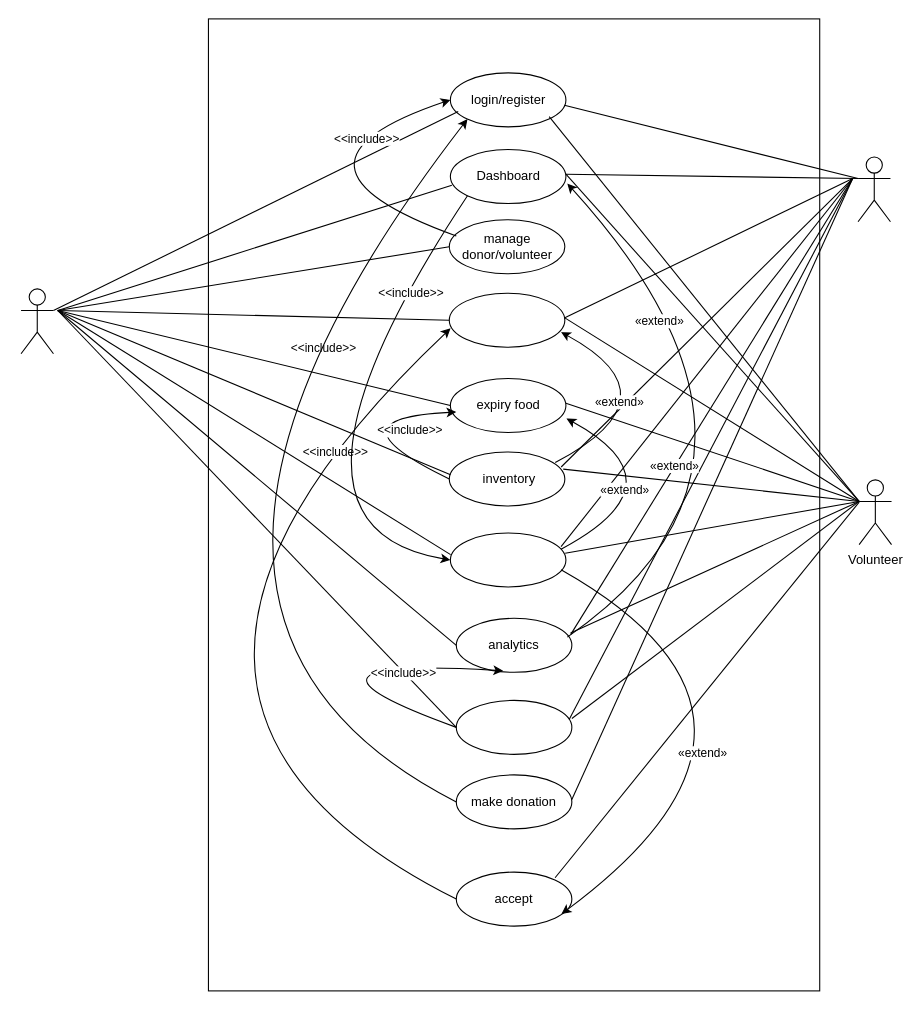
This 921x1010 diagram has some shape labels left out. The shapes that lost their labels are listed below. From the top down, each one's centre as x and y in pixels, then its label:
the point at 873,189: Donor
the point at 36,321: Admin
the point at 506,319: food available
the point at 507,559: notification
the point at 513,726: reports
